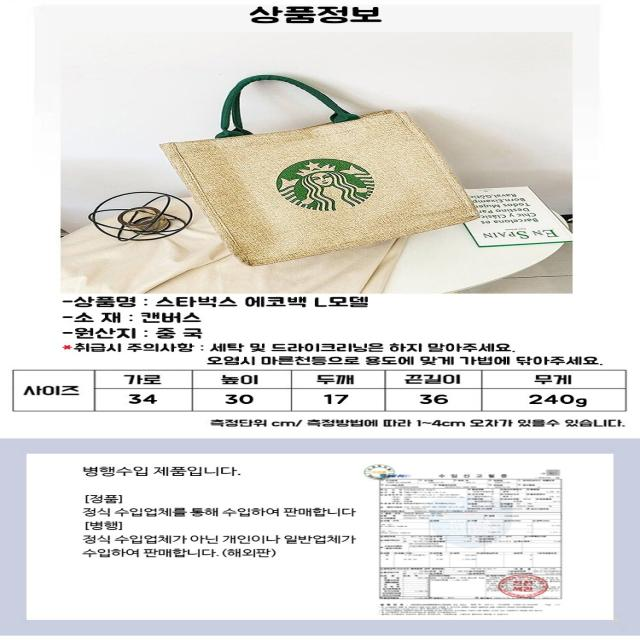ecobag: (150, 77, 485, 260)
